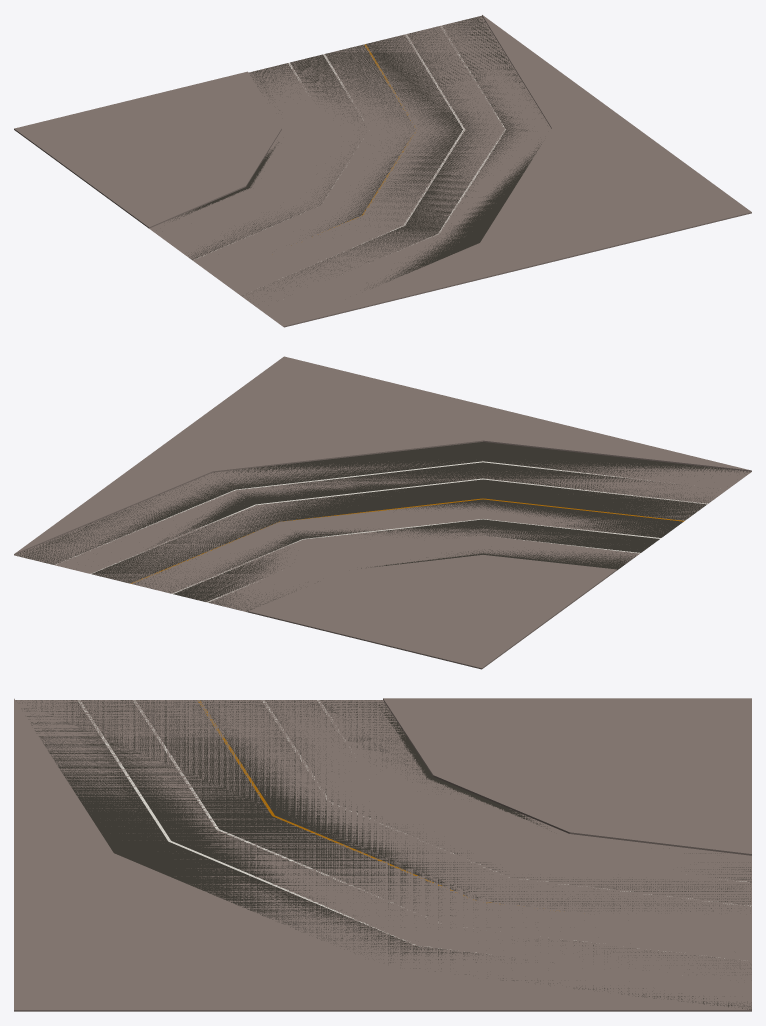
The model's file is Env_3lane_CurveA.fbx.
The picture shows the model from 3 angles, top to bottom: view 1: azimuth 30°, elevation 25°; view 2: azimuth 150°, elevation 25°; view 3: azimuth 270°, elevation 25°; orthographic projection. The views are drawn at different scales.
Parts seen in each view (by area): view 1: Env_3lane_CurveA; view 2: Env_3lane_CurveA; view 3: Env_3lane_CurveA.
Part boxes in pixels (bbox=[...]): Env_3lane_CurveA: bbox=[14, 15, 751, 327]; Env_3lane_CurveA: bbox=[14, 356, 751, 669]; Env_3lane_CurveA: bbox=[14, 698, 751, 1011].
Bounding box in the file's own units: 4000 × 10 × 4000.
